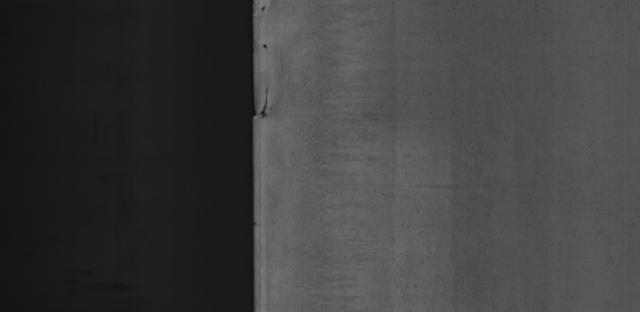inclusion: (256, 88, 284, 134), (258, 34, 276, 56), (255, 1, 270, 13)
